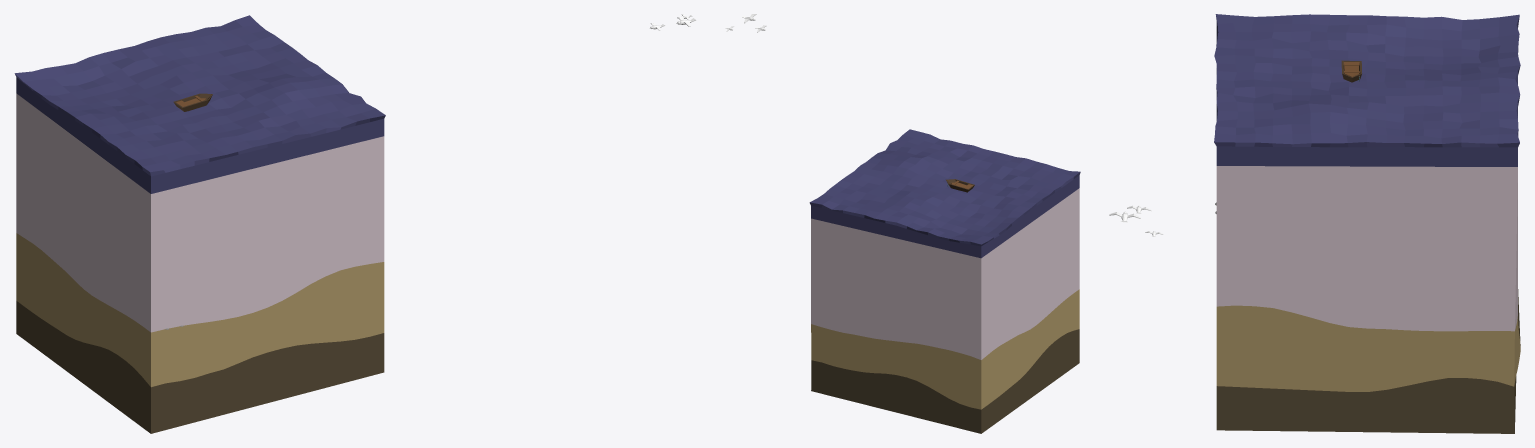
Rendered from bikinibottom.fbx.
The picture shows the model from 3 angles, left to right: view 1: azimuth 30°, elevation 25°; view 2: azimuth 150°, elevation 25°; view 3: azimuth 270°, elevation 25°; orthographic projection. The views are drawn at different scales.
Visible parts, largest first — view 1: Cube; view 2: Cube; view 3: Cube, Boat.
Part boxes in pixels (box(x1,y1,x2,y2)): Cube: box(14, 15, 385, 433); Cube: box(809, 129, 1080, 433); Cube: box(1214, 14, 1520, 433); Boat: box(1341, 60, 1361, 82).
Size of the model in its own units: 9243 by 5583 by 5728.
